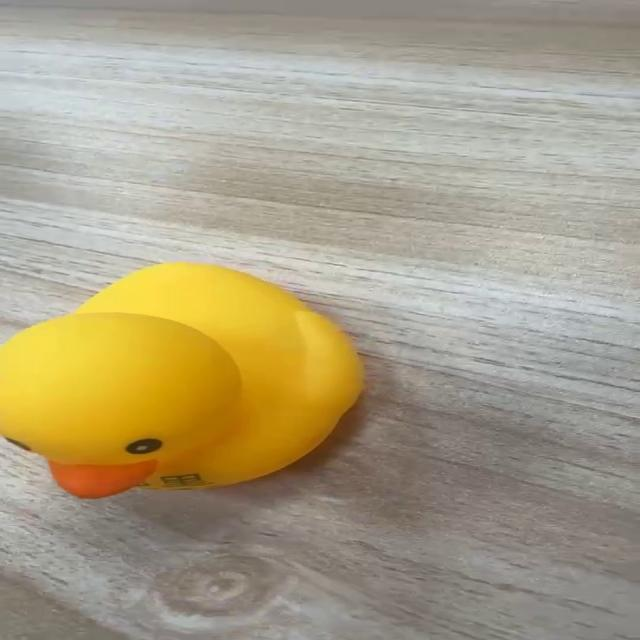yellow_duck: (0, 260, 366, 499)
